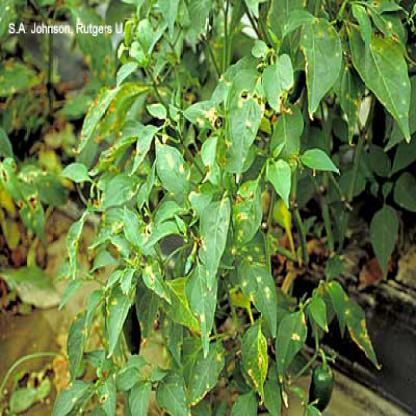bell pepper leaf spot: (222, 65, 267, 191), (297, 15, 343, 123), (181, 262, 220, 359), (238, 255, 278, 337), (100, 280, 137, 362), (186, 338, 229, 406), (275, 305, 308, 391), (229, 177, 265, 255), (153, 135, 192, 198), (239, 326, 271, 401), (141, 261, 172, 302)
